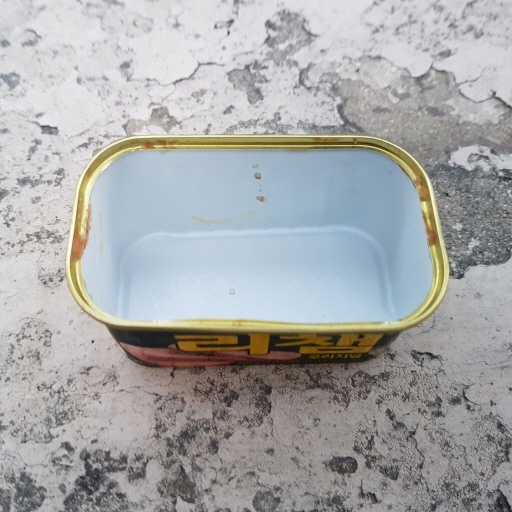Metal_2: (70, 131, 449, 375)
